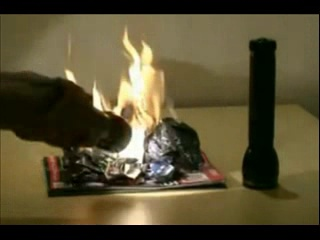fire: (118, 26, 168, 151), (91, 79, 116, 115), (64, 65, 76, 82)
